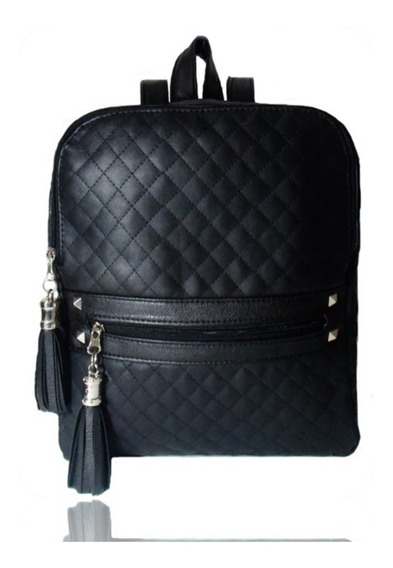cartera: (34, 34, 365, 496)
